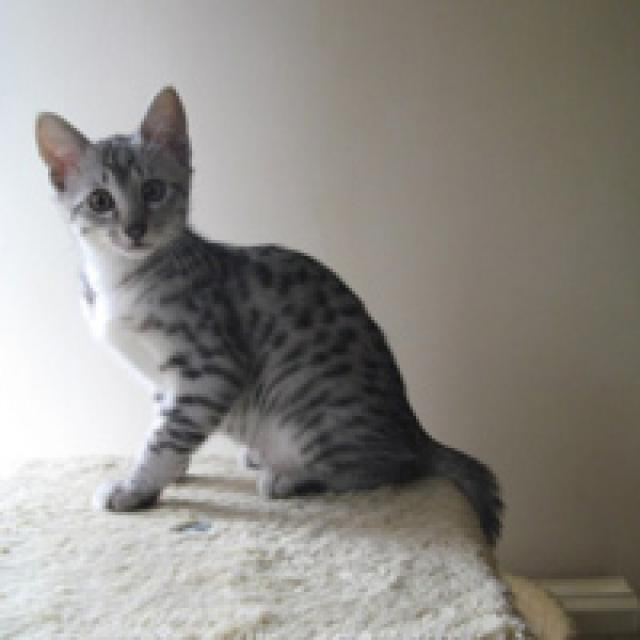Egyptian_Mau: (24, 76, 207, 269)
